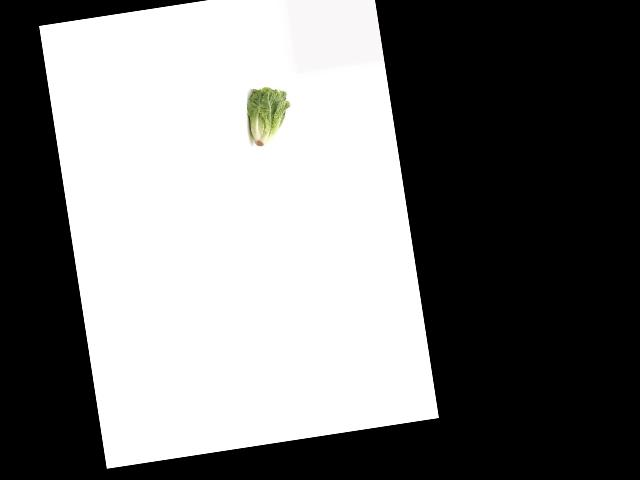lettuce: (242, 84, 296, 150)
